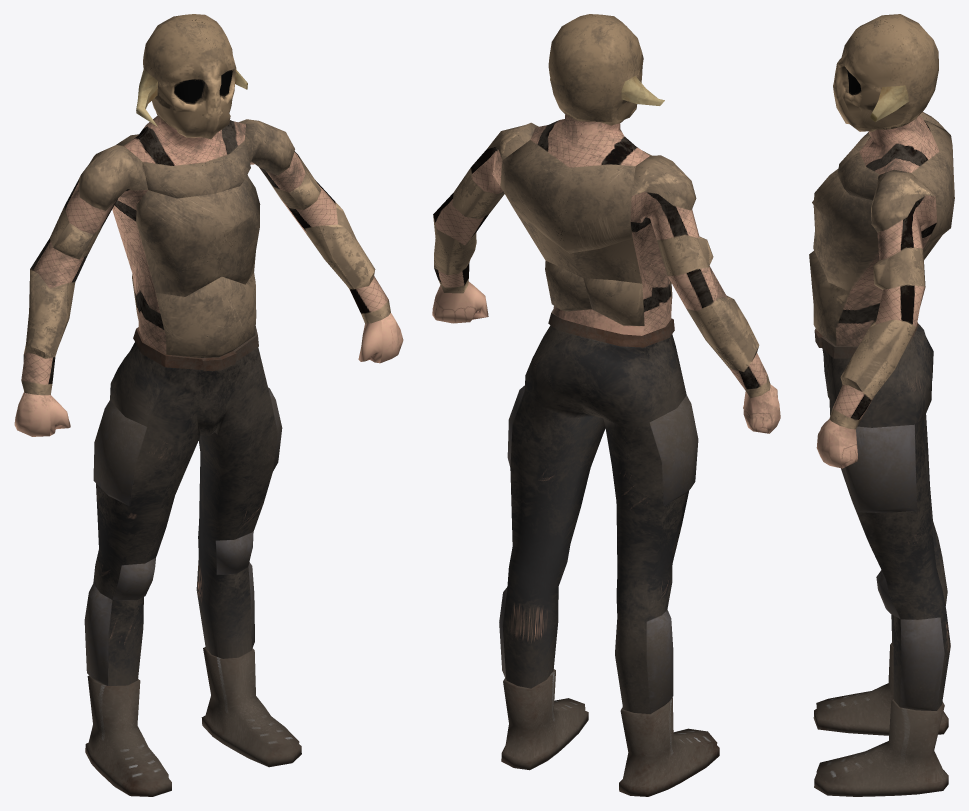
The model's file is Anim_idle_npc1.0029.obj.
3 renders of one model, left to right at view 1: azimuth 30°, elevation 25°; view 2: azimuth 150°, elevation 25°; view 3: azimuth 270°, elevation 25°, orthographic.
Visible parts, largest first — view 1: NPC2; view 2: NPC2; view 3: NPC2.
Boxes of the visible parts, left/top/right/bottom form: NPC2: left=14, top=14, right=403, bottom=796; NPC2: left=432, top=14, right=780, bottom=796; NPC2: left=809, top=14, right=954, bottom=796.
Bounding box in the file's own units: 4.97 × 9.67 × 1.73.
